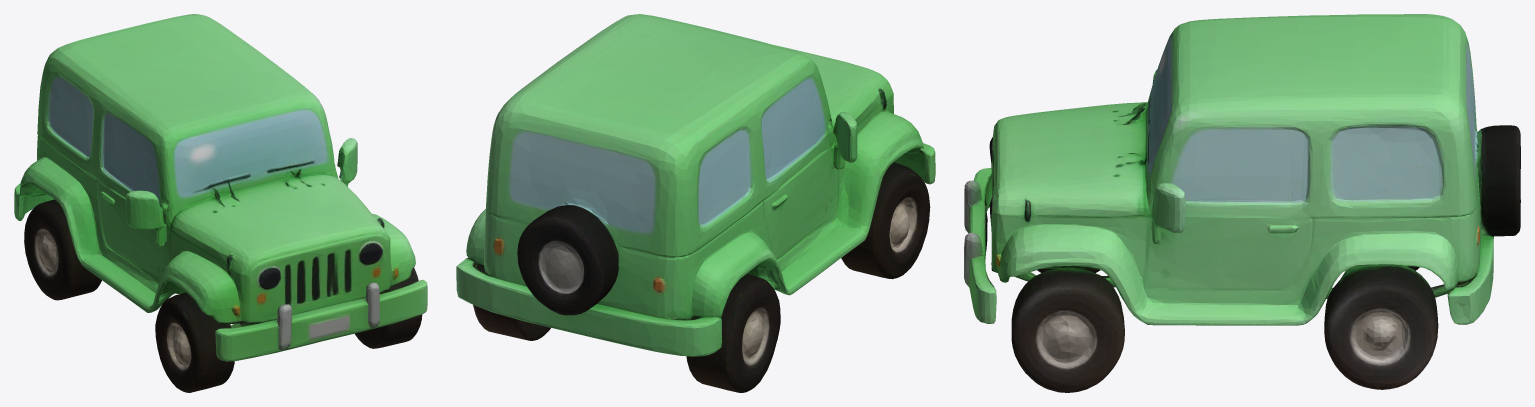
Rendered from jeep.glb.
3 views of the same model, side by side, from view 1: azimuth 30°, elevation 25°; view 2: azimuth 150°, elevation 25°; view 3: azimuth 270°, elevation 25° (orthographic). The views are drawn at different scales.
Visible parts, largest first — view 1: geometry_0; view 2: geometry_0; view 3: geometry_0.
Part boxes in pixels (box(x1,y1,x2,y2)): geometry_0: box(14, 14, 427, 392); geometry_0: box(456, 14, 935, 392); geometry_0: box(964, 14, 1520, 392).
Size of the model in its own units: 0.579 by 0.5414 by 0.9999.
1 material, 1 textured.
